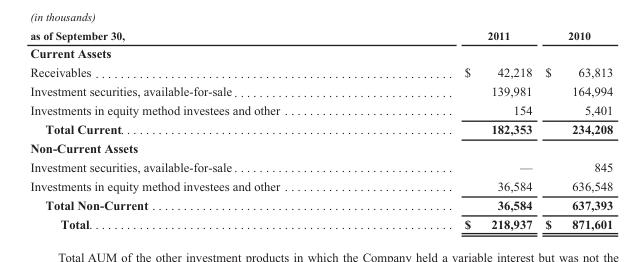table: (29, 28, 612, 230)
table column: (29, 28, 371, 230), (371, 28, 538, 230), (538, 28, 612, 230)
table column header: (29, 28, 612, 43)
table projected row header: (29, 43, 612, 62), (29, 138, 612, 157)
table row: (29, 43, 612, 62), (29, 62, 612, 81), (29, 81, 612, 100), (29, 100, 612, 119), (29, 119, 612, 138), (29, 138, 612, 157), (29, 157, 612, 176), (29, 176, 612, 195), (29, 195, 612, 214), (29, 214, 612, 230), (29, 28, 612, 43)
